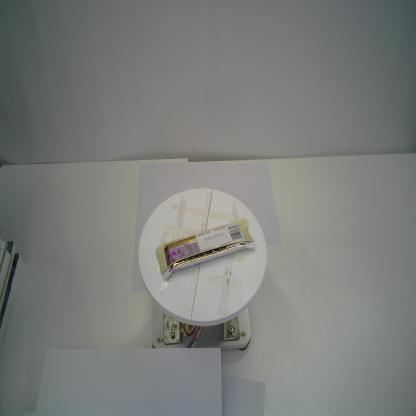Chocolate: (155, 219, 259, 280)
